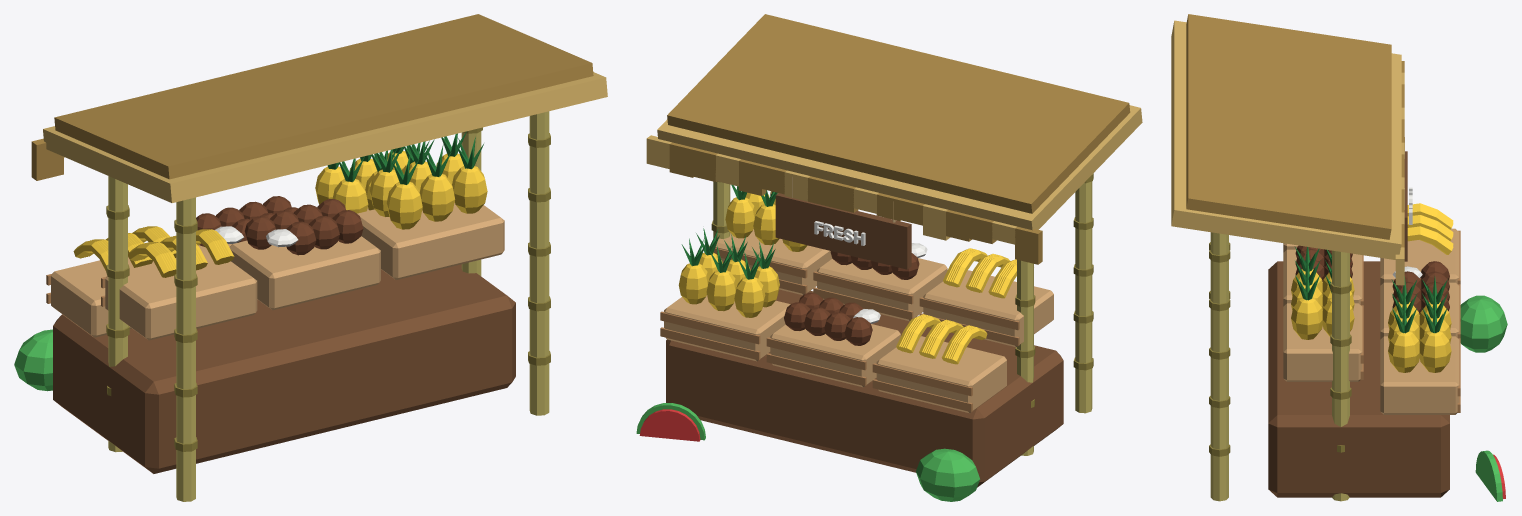
Rendered from FruitStand.fbx.
3 views of the same model, side by side, from view 1: azimuth 30°, elevation 25°; view 2: azimuth 150°, elevation 25°; view 3: azimuth 270°, elevation 25° (orthographic). The views are drawn at different scales.
Visible parts, largest first — view 1: FruitStand_WoodDark, FruitStand_ThatchDark, FruitStand_WoodLight, FruitStand_Bamboo, FruitStand_Thatch, FruitStand_Yellow, FruitStand_Chocolate, FruitStand_BambooDark, FruitStand_LeafDark, FruitStand_Green, FruitStand_White; view 2: FruitStand_ThatchDark, FruitStand_WoodDark, FruitStand_WoodLight, FruitStand_Thatch, FruitStand_Yellow, FruitStand_Plank, FruitStand_Bamboo, FruitStand_Chocolate, FruitStand_Green, FruitStand_LeafDark, FruitStand_Red, FruitStand_BambooDark (+1 smaller); view 3: FruitStand_ThatchDark, FruitStand_WoodDark, FruitStand_WoodLight, FruitStand_Thatch, FruitStand_Yellow, FruitStand_Bamboo, FruitStand_Green, FruitStand_LeafDark, FruitStand_Chocolate, FruitStand_BambooDark, FruitStand_Plank.
Part boxes in pixels (x1=…): FruitStand_WoodDark: x1=53, y1=264, x2=515, y2=473; FruitStand_ThatchDark: x1=31, y1=14, x2=593, y2=180; FruitStand_WoodLight: x1=51, y1=203, x2=504, y2=340; FruitStand_Bamboo: x1=108, y1=111, x2=549, y2=501; FruitStand_Thatch: x1=43, y1=72, x2=607, y2=202; FruitStand_Yellow: x1=73, y1=150, x2=487, y2=277; FruitStand_Chocolate: x1=196, y1=196, x2=363, y2=255; FruitStand_BambooDark: x1=106, y1=127, x2=550, y2=451; FruitStand_LeafDark: x1=327, y1=131, x2=483, y2=184; FruitStand_Green: x1=14, y1=329, x2=52, y2=391; FruitStand_White: x1=214, y1=226, x2=298, y2=247; FruitStand_ThatchDark: x1=667, y1=14, x2=1130, y2=264; FruitStand_WoodDark: x1=666, y1=193, x2=1063, y2=487; FruitStand_WoodLight: x1=664, y1=229, x2=1053, y2=413; FruitStand_Thatch: x1=646, y1=105, x2=1142, y2=244; FruitStand_Yellow: x1=678, y1=192, x2=1016, y2=364; FruitStand_Plank: x1=660, y1=245, x2=1019, y2=411; FruitStand_Bamboo: x1=713, y1=181, x2=1092, y2=455; FruitStand_Chocolate: x1=784, y1=251, x2=919, y2=345; FruitStand_Green: x1=636, y1=403, x2=980, y2=501; FruitStand_LeafDark: x1=681, y1=185, x2=777, y2=279; FruitStand_Red: x1=639, y1=409, x2=700, y2=441; FruitStand_BambooDark: x1=711, y1=173, x2=1093, y2=407; FruitStand_ThatchDark: x1=1186, y1=14, x2=1404, y2=247; FruitStand_WoodDark: x1=1268, y1=151, x2=1449, y2=497; FruitStand_WoodLight: x1=1283, y1=228, x2=1459, y2=414; FruitStand_Thatch: x1=1171, y1=20, x2=1404, y2=285; FruitStand_Yellow: x1=1291, y1=203, x2=1453, y2=372; FruitStand_Bamboo: x1=1210, y1=232, x2=1349, y2=501; FruitStand_Green: x1=1460, y1=295, x2=1507, y2=501; FruitStand_LeafDark: x1=1295, y1=247, x2=1447, y2=333; FruitStand_Chocolate: x1=1295, y1=245, x2=1449, y2=314; FruitStand_BambooDark: x1=1209, y1=242, x2=1351, y2=456; FruitStand_Plank: x1=1360, y1=230, x2=1460, y2=412.
Bounding box in the file's own units: 15.48 × 11.45 × 11.1.
